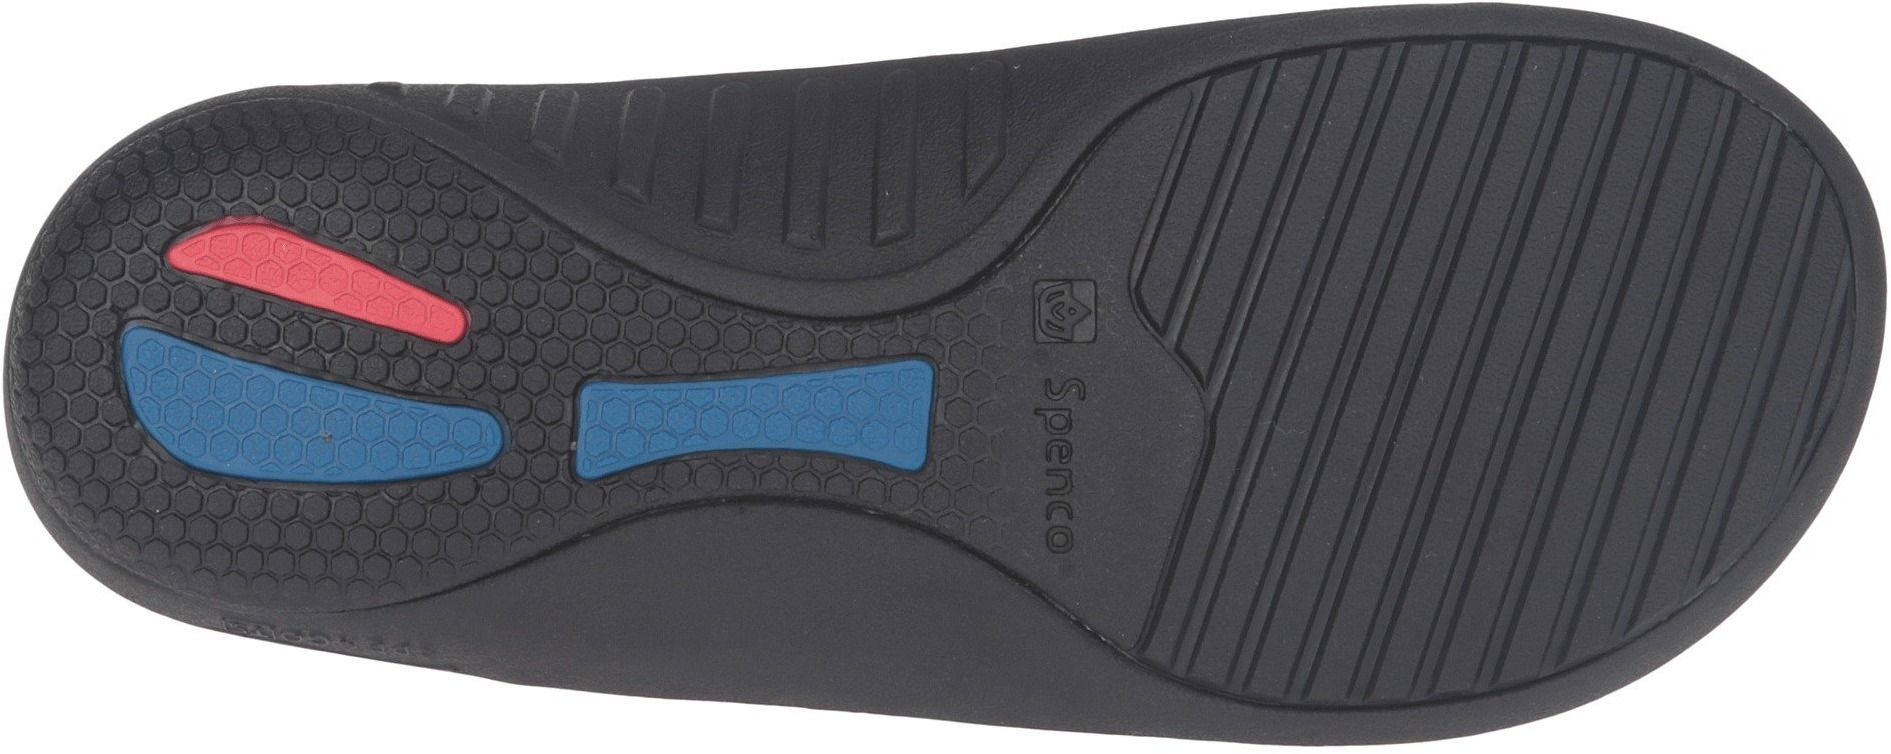line: (1117, 37, 1856, 711)
quad: (569, 361, 931, 478), (1032, 277, 1099, 339)
text: (1028, 366, 1097, 553)
